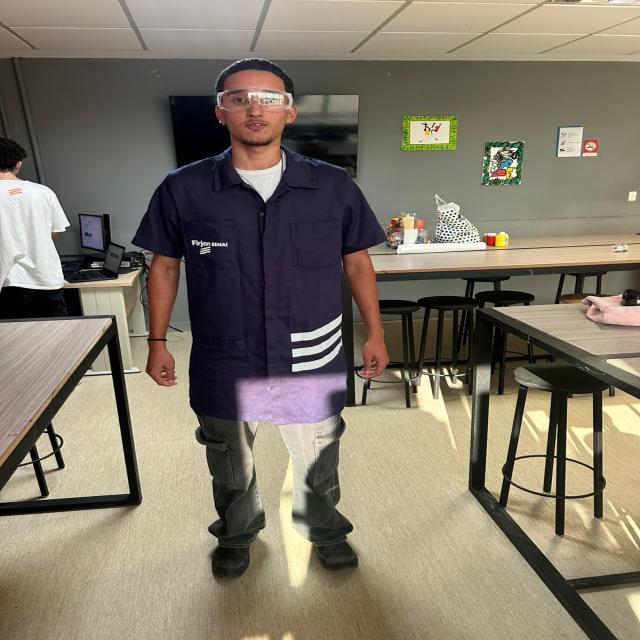oculos-epi: (215, 86, 293, 112)
